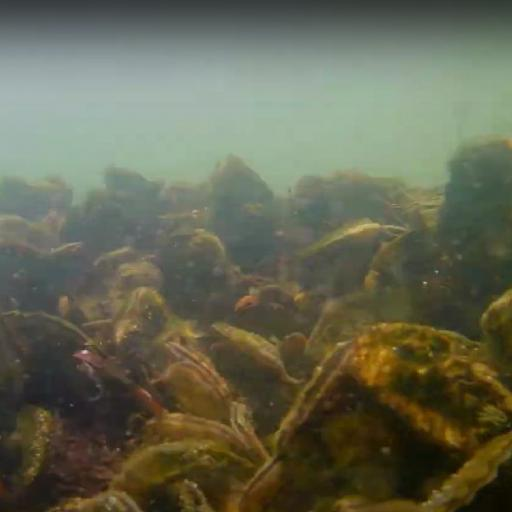Oyster-Closed: (443, 135, 512, 282), (1, 310, 106, 404), (111, 450, 253, 512), (368, 219, 443, 329), (423, 434, 512, 512), (212, 320, 300, 389), (1, 403, 52, 512), (210, 148, 273, 232), (170, 231, 227, 320), (144, 410, 255, 454), (481, 288, 512, 383), (118, 285, 172, 338)
Oyster-Open: (278, 325, 511, 512), (299, 220, 415, 279), (156, 359, 229, 420), (220, 389, 273, 470), (52, 494, 139, 512)
